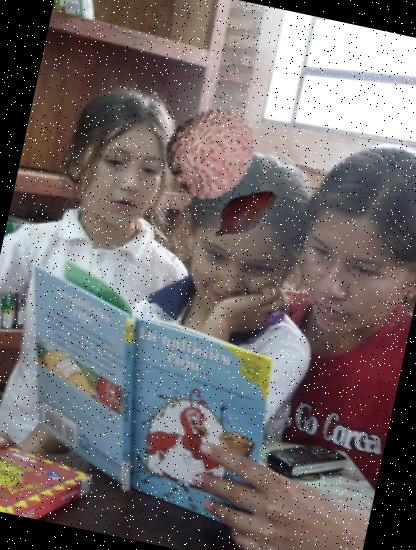Lychee: (156, 97, 270, 210)
Salak: (200, 170, 286, 257)
